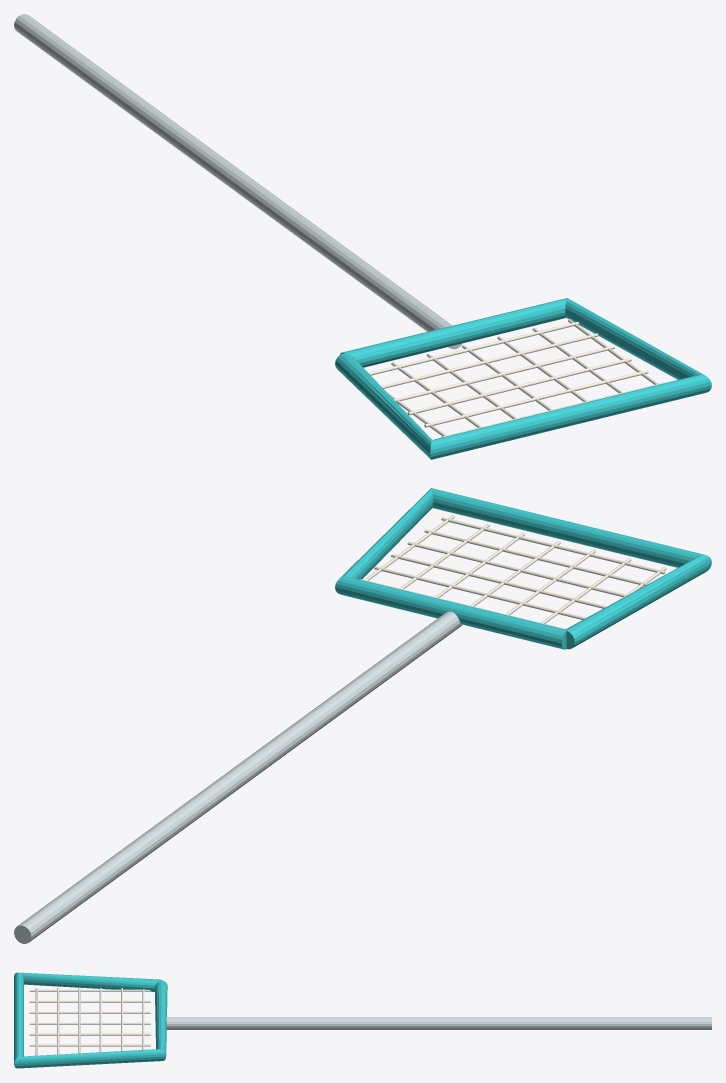
Rendered from waterpark-and-pool-operations-waterpark-and-pool-opera-2f25a752__28978.glb.
3 renders of one model, top to bottom at view 1: azimuth 30°, elevation 25°; view 2: azimuth 150°, elevation 25°; view 3: azimuth 270°, elevation 25°, orthographic. The views are drawn at different scales.
Visible parts, largest first — view 1: waterpark-and-pool-operations-skimmer-net; view 2: waterpark-and-pool-operations-skimmer-net; view 3: waterpark-and-pool-operations-skimmer-net.
Part boxes in pixels (left/top/right/bottom): waterpark-and-pool-operations-skimmer-net: left=14, top=14, right=711, bottom=459; waterpark-and-pool-operations-skimmer-net: left=14, top=488, right=711, bottom=943; waterpark-and-pool-operations-skimmer-net: left=14, top=972, right=711, bottom=1068.
Size of the model in its own units: 0.5822 by 0.046 by 1.96.
